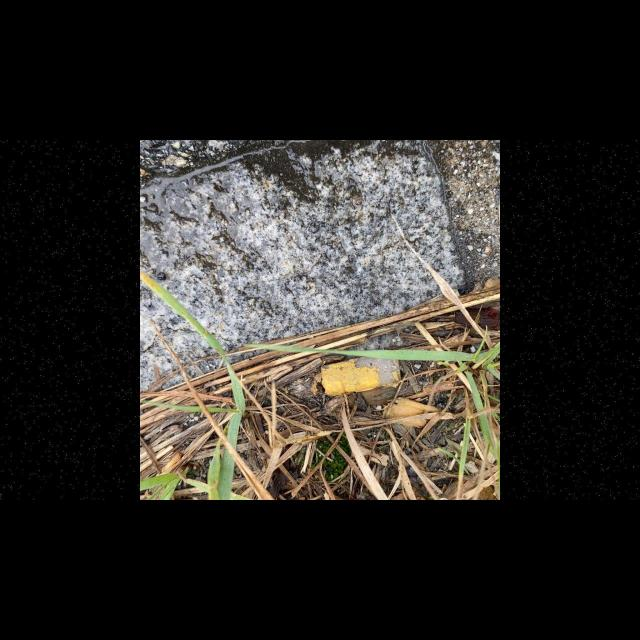cigarette: (320, 354, 401, 396)
